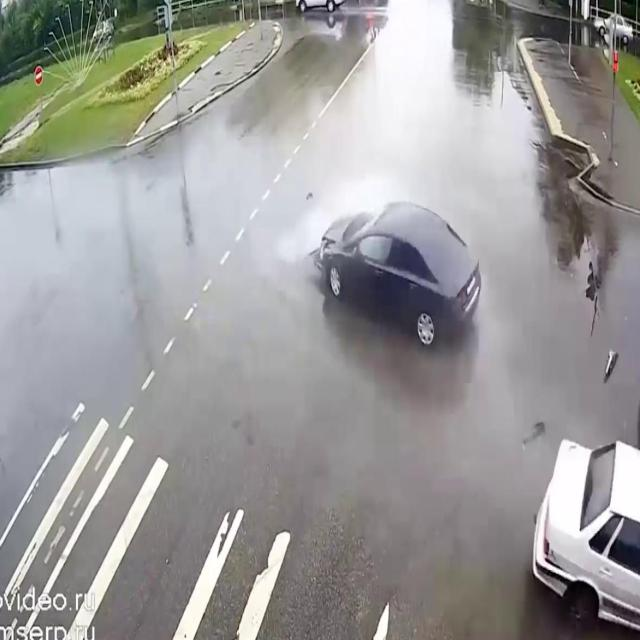accident: (295, 173, 640, 640)
